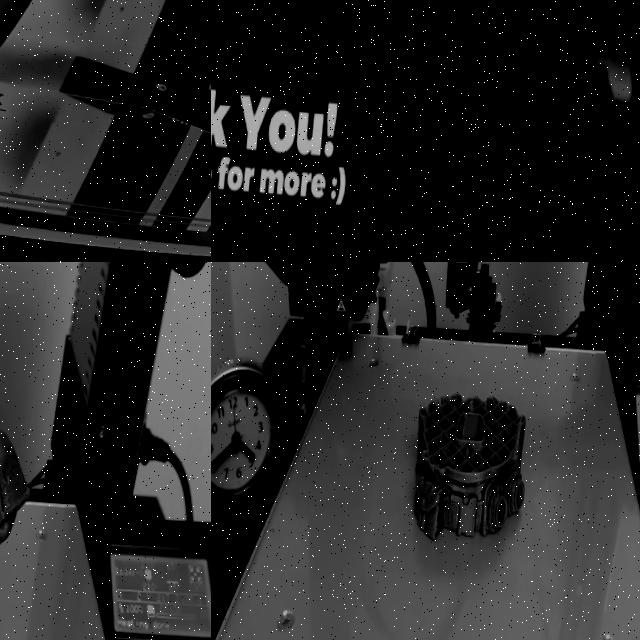spaghetti: (0, 69, 12, 119)
